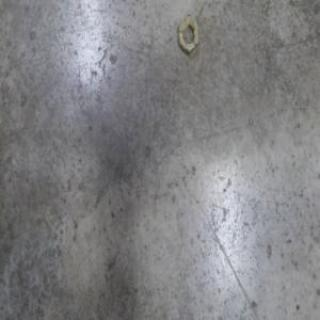Nuttrack_idkeyframe: (177, 12, 199, 54)
